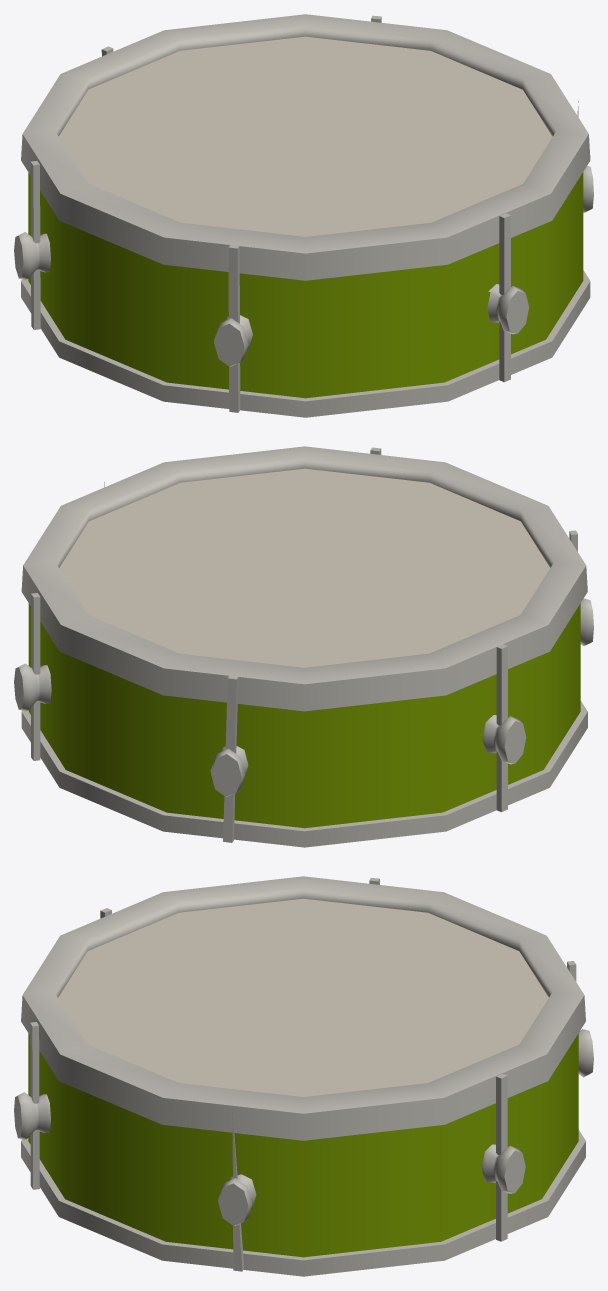
File: Drum.fbx
3 renders of one model, top to bottom at view 1: azimuth 30°, elevation 25°; view 2: azimuth 150°, elevation 25°; view 3: azimuth 270°, elevation 25°, orthographic.
Parts seen in each view (by area): view 1: Drum, pCube1 (×3), pCylinder2 (×3); view 2: Drum, pCylinder2 (×4), pCube1 (×3); view 3: Drum, pCylinder2 (×4), pCube1 (×3).
Part boxes in pixels (x1,y1,x2,y2): Drum: (21, 14, 590, 417); pCube1 (×3): (30, 161, 510, 412); pCylinder2 (×3): (14, 232, 528, 366); Drum: (21, 446, 587, 847); pCylinder2 (×4): (14, 598, 593, 796); pCube1 (×3): (31, 593, 507, 842); Drum: (21, 876, 585, 1276); pCylinder2 (×4): (14, 1029, 593, 1225); pCube1 (×3): (30, 1022, 507, 1271).
Size of the model in its own units: 20.12 by 6.33 by 20.13.
